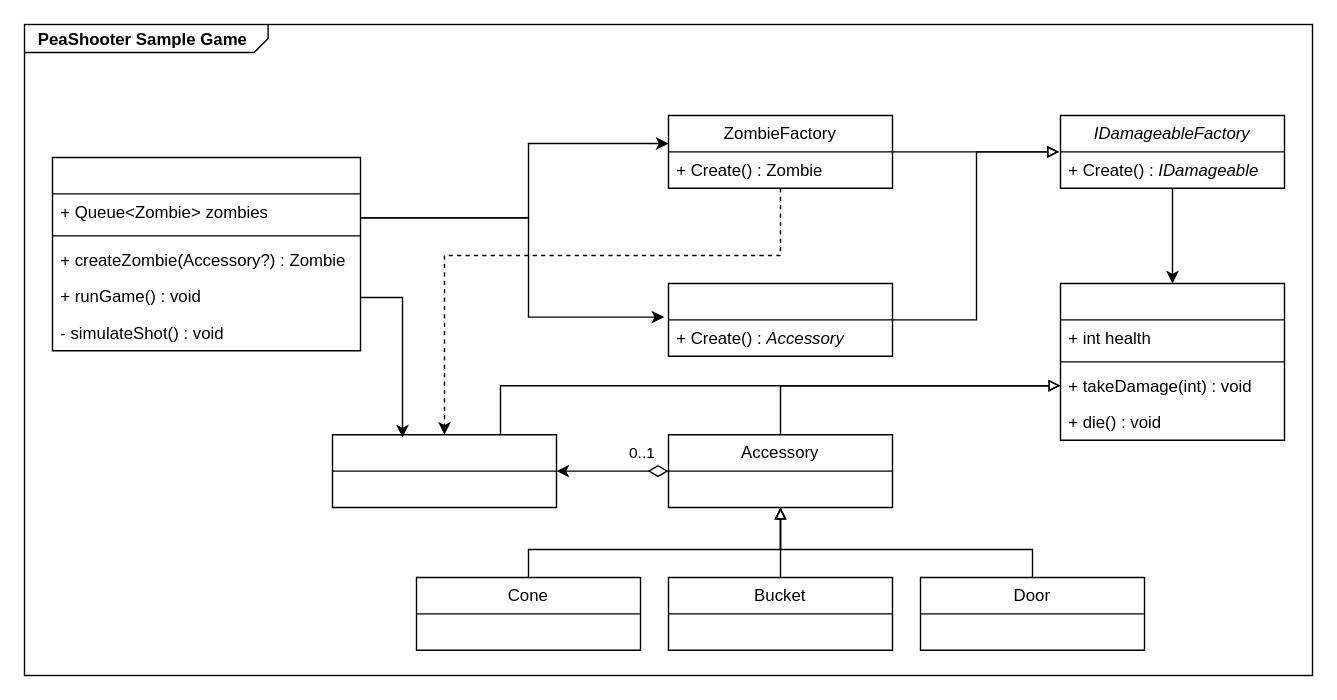
The diagram is 1337 pixels wide and 700 high, and some of its shapes have lost their labels. Each missing label, with the box of its shape:
AccessoryFacory: (667, 282, 892, 356)
GameManager: (51, 156, 360, 351)
IDamageable: (1059, 282, 1284, 440)
Zombie: (331, 433, 556, 507)
